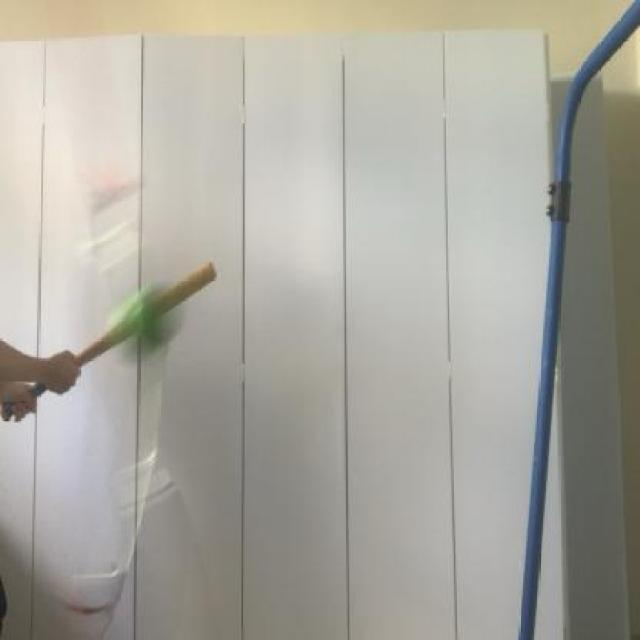baseball: (116, 268, 179, 370)
